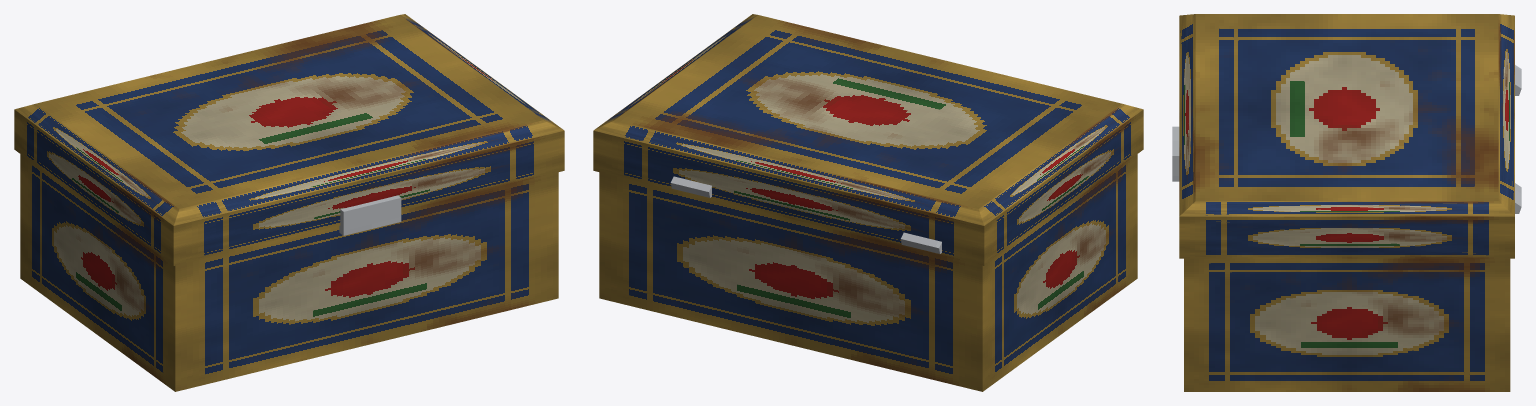
Rendered from item_tin_box.glb.
3 views of the same model, side by side, from view 1: azimuth 30°, elevation 25°; view 2: azimuth 150°, elevation 25°; view 3: azimuth 270°, elevation 25° (orthographic). The views are drawn at different scales.
Visible parts, largest first — view 1: tin; view 2: tin; view 3: tin.
Boxes of the visible parts, x1=… form: tin: x1=14, y1=14, x2=564, y2=391; tin: x1=593, y1=14, x2=1143, y2=391; tin: x1=1172, y1=14, x2=1521, y2=391.
Bounding box in the file's own units: 0.204 × 0.088 × 0.1499.
3 materials, 3 textured.
